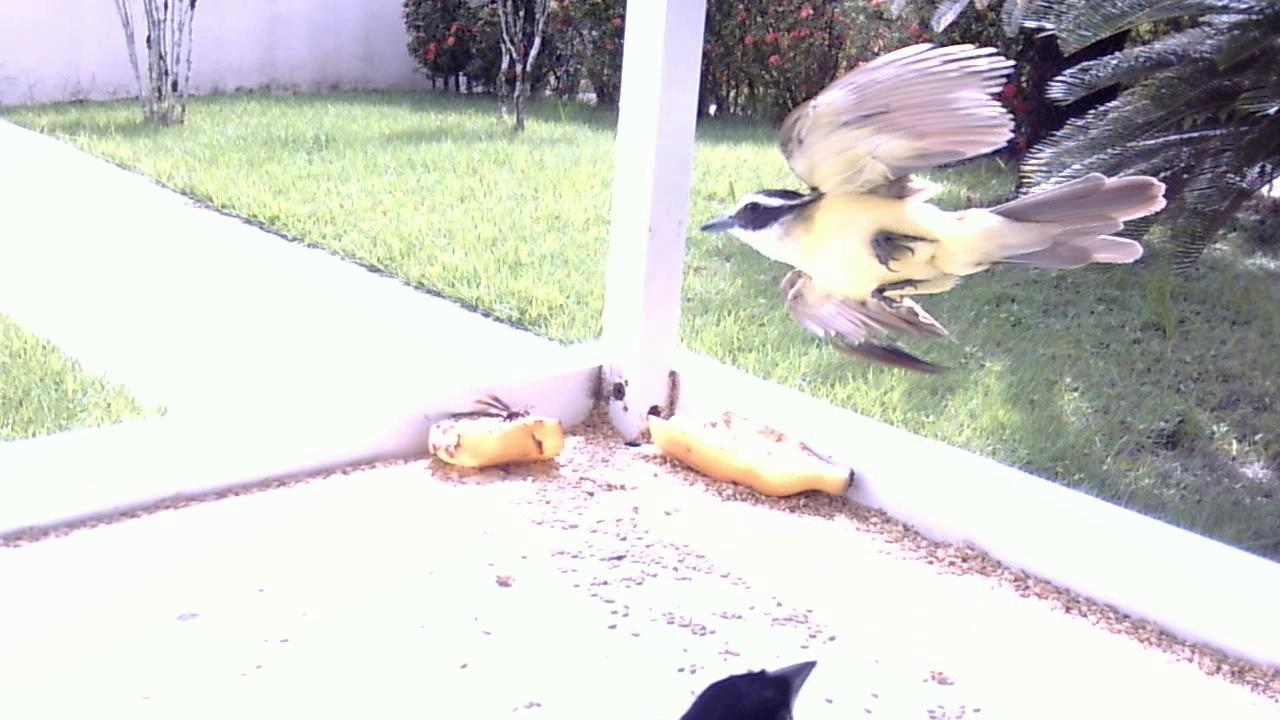bem_te_vi: (687, 11, 1182, 408)
